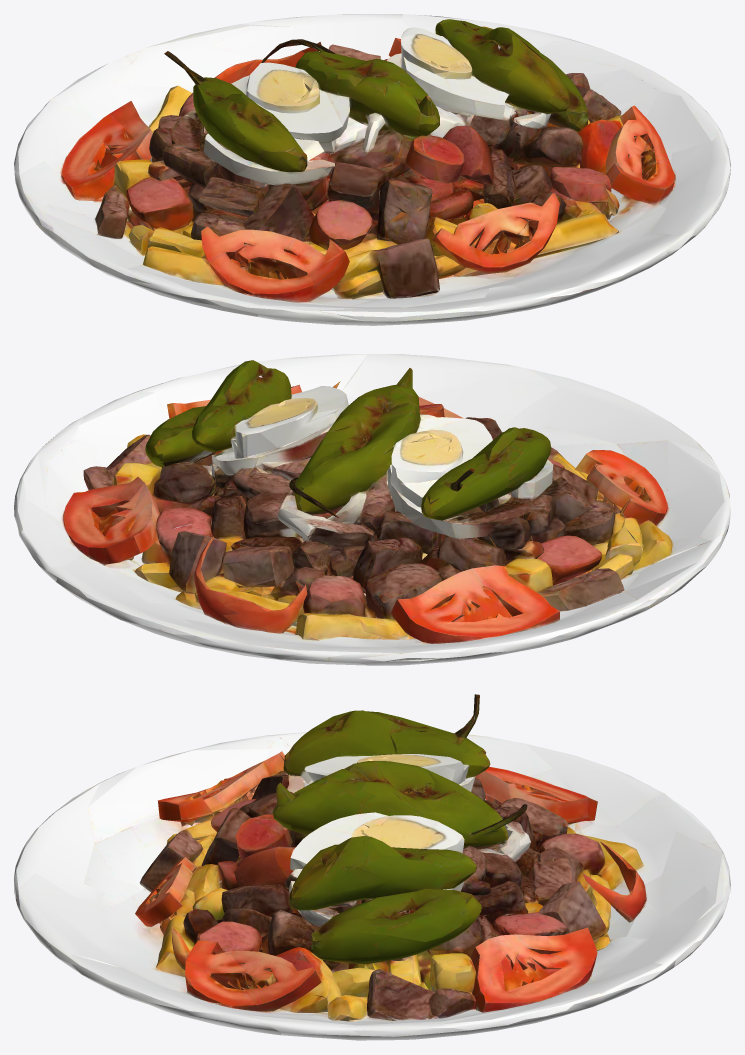
The model's file is pique.glb.
3 renders of one model, top to bottom at view 1: azimuth 30°, elevation 25°; view 2: azimuth 150°, elevation 25°; view 3: azimuth 270°, elevation 25°, orthographic.
Size of the model in its own units: 1.9 by 0.4805 by 1.9.
Materials: 1 (1 with a texture image).
